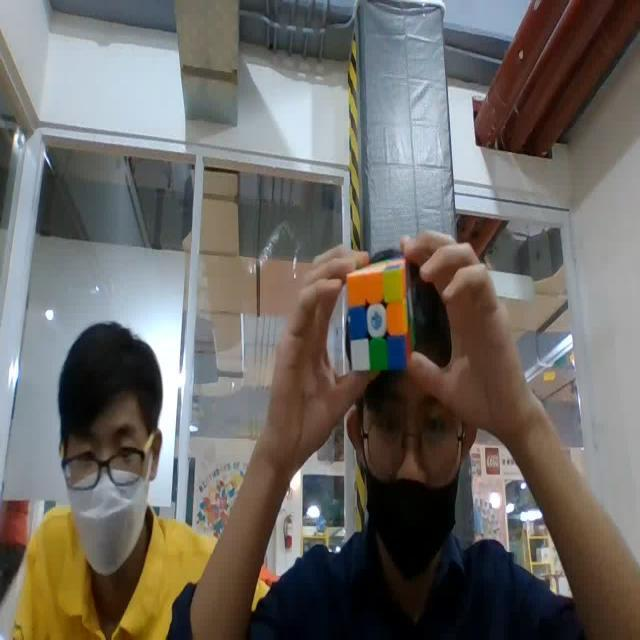Rub: (344, 257, 420, 374)
